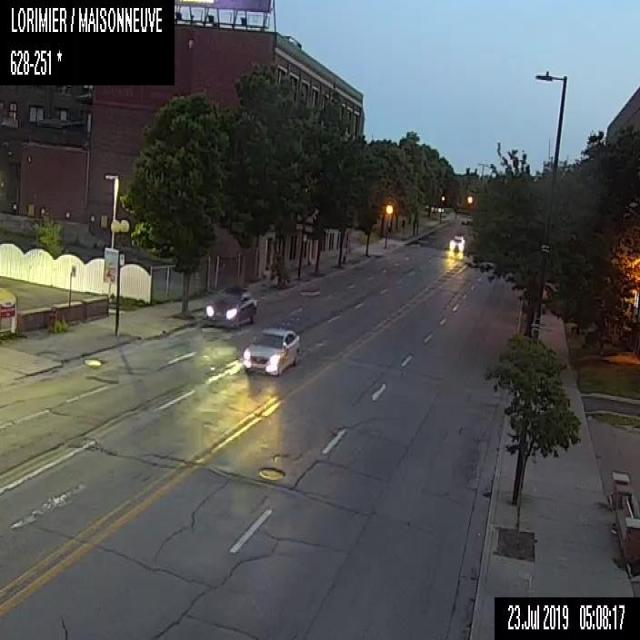vehicle: (242, 326, 298, 376), (202, 287, 258, 328), (448, 232, 465, 252)
